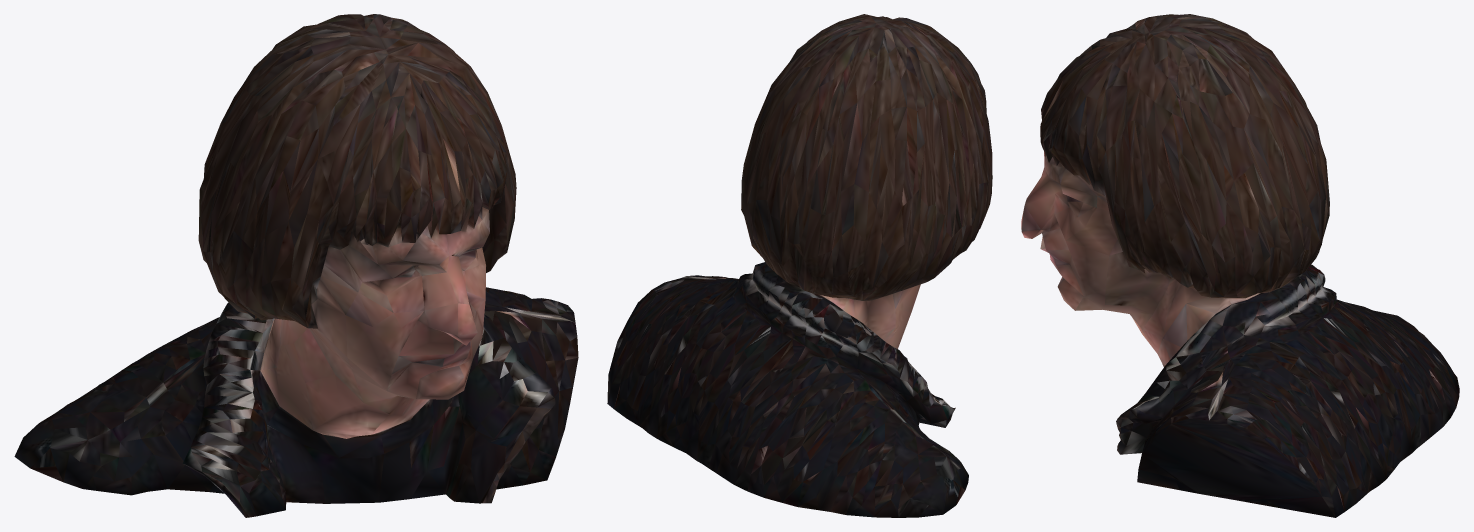
The model's file is chris_lo.glb.
The picture shows the model from 3 angles, left to right: view 1: azimuth 30°, elevation 25°; view 2: azimuth 150°, elevation 25°; view 3: azimuth 270°, elevation 25°; orthographic projection. The views are drawn at different scales.
Visible parts, largest first — view 1: output_unwrapped; view 2: output_unwrapped; view 3: output_unwrapped.
Boxes of the visible parts, <box> form: output_unwrapped: <box>14,14,578,517</box>; output_unwrapped: <box>607,14,992,517</box>; output_unwrapped: <box>1021,14,1459,517</box>.
Bounding box in the file's own units: 1.89 × 1.81 × 1.82.
1 material, 1 textured.
